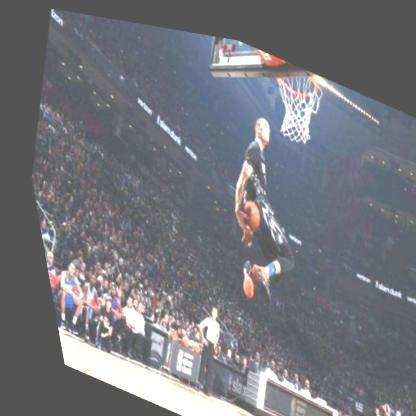basketball: (258, 46, 333, 140)
